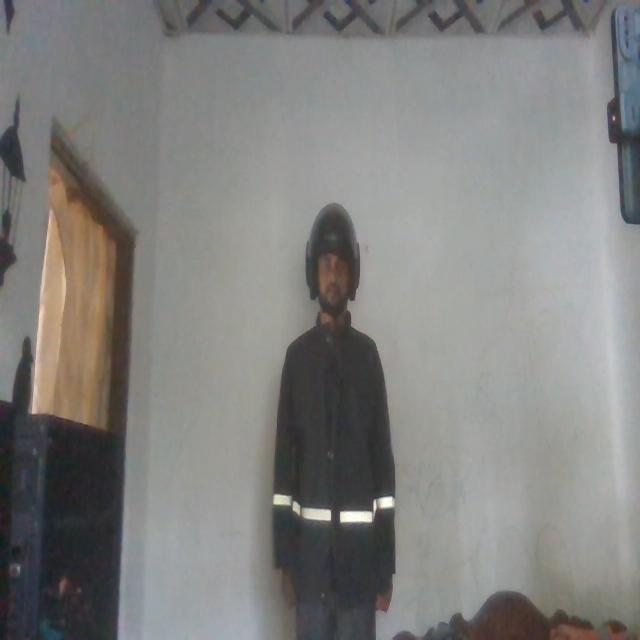Helmet_Wearer: (298, 207, 362, 334)
Jacket_Wearer: (276, 324, 394, 599)
Person: (258, 205, 399, 640)
